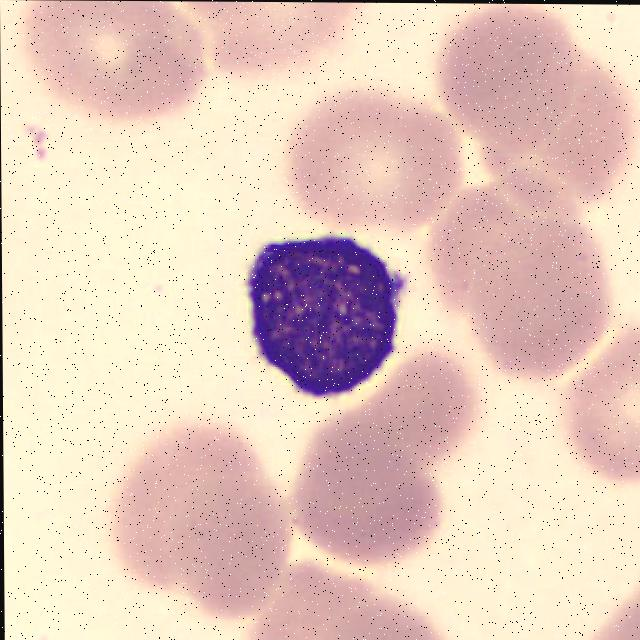lymphocyte: (248, 227, 406, 409)
rbc: (284, 400, 447, 573), (459, 210, 614, 382), (303, 84, 458, 236), (18, 0, 202, 123), (445, 3, 583, 164), (185, 423, 292, 620), (493, 67, 619, 215), (230, 559, 444, 640), (105, 429, 200, 595), (198, 1, 355, 88), (559, 320, 640, 486), (425, 186, 528, 315), (368, 353, 477, 450), (580, 576, 640, 640)
